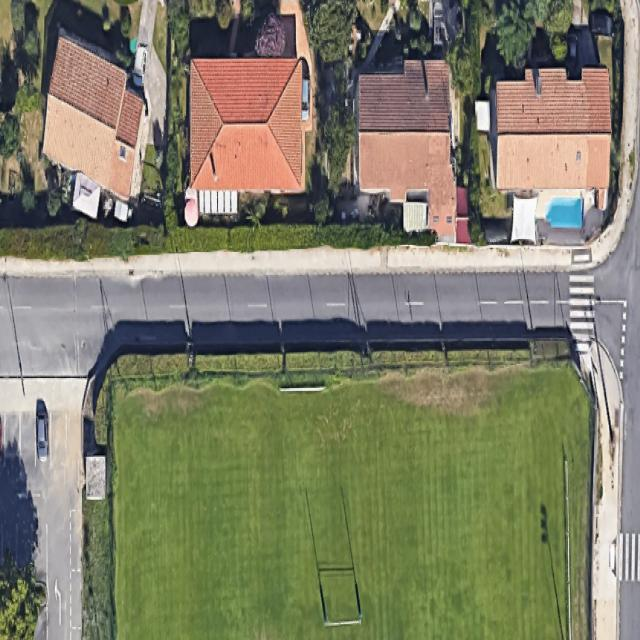maison: (39, 31, 150, 200), (354, 58, 458, 236), (493, 69, 611, 218), (189, 57, 303, 192), (495, 67, 610, 189)
